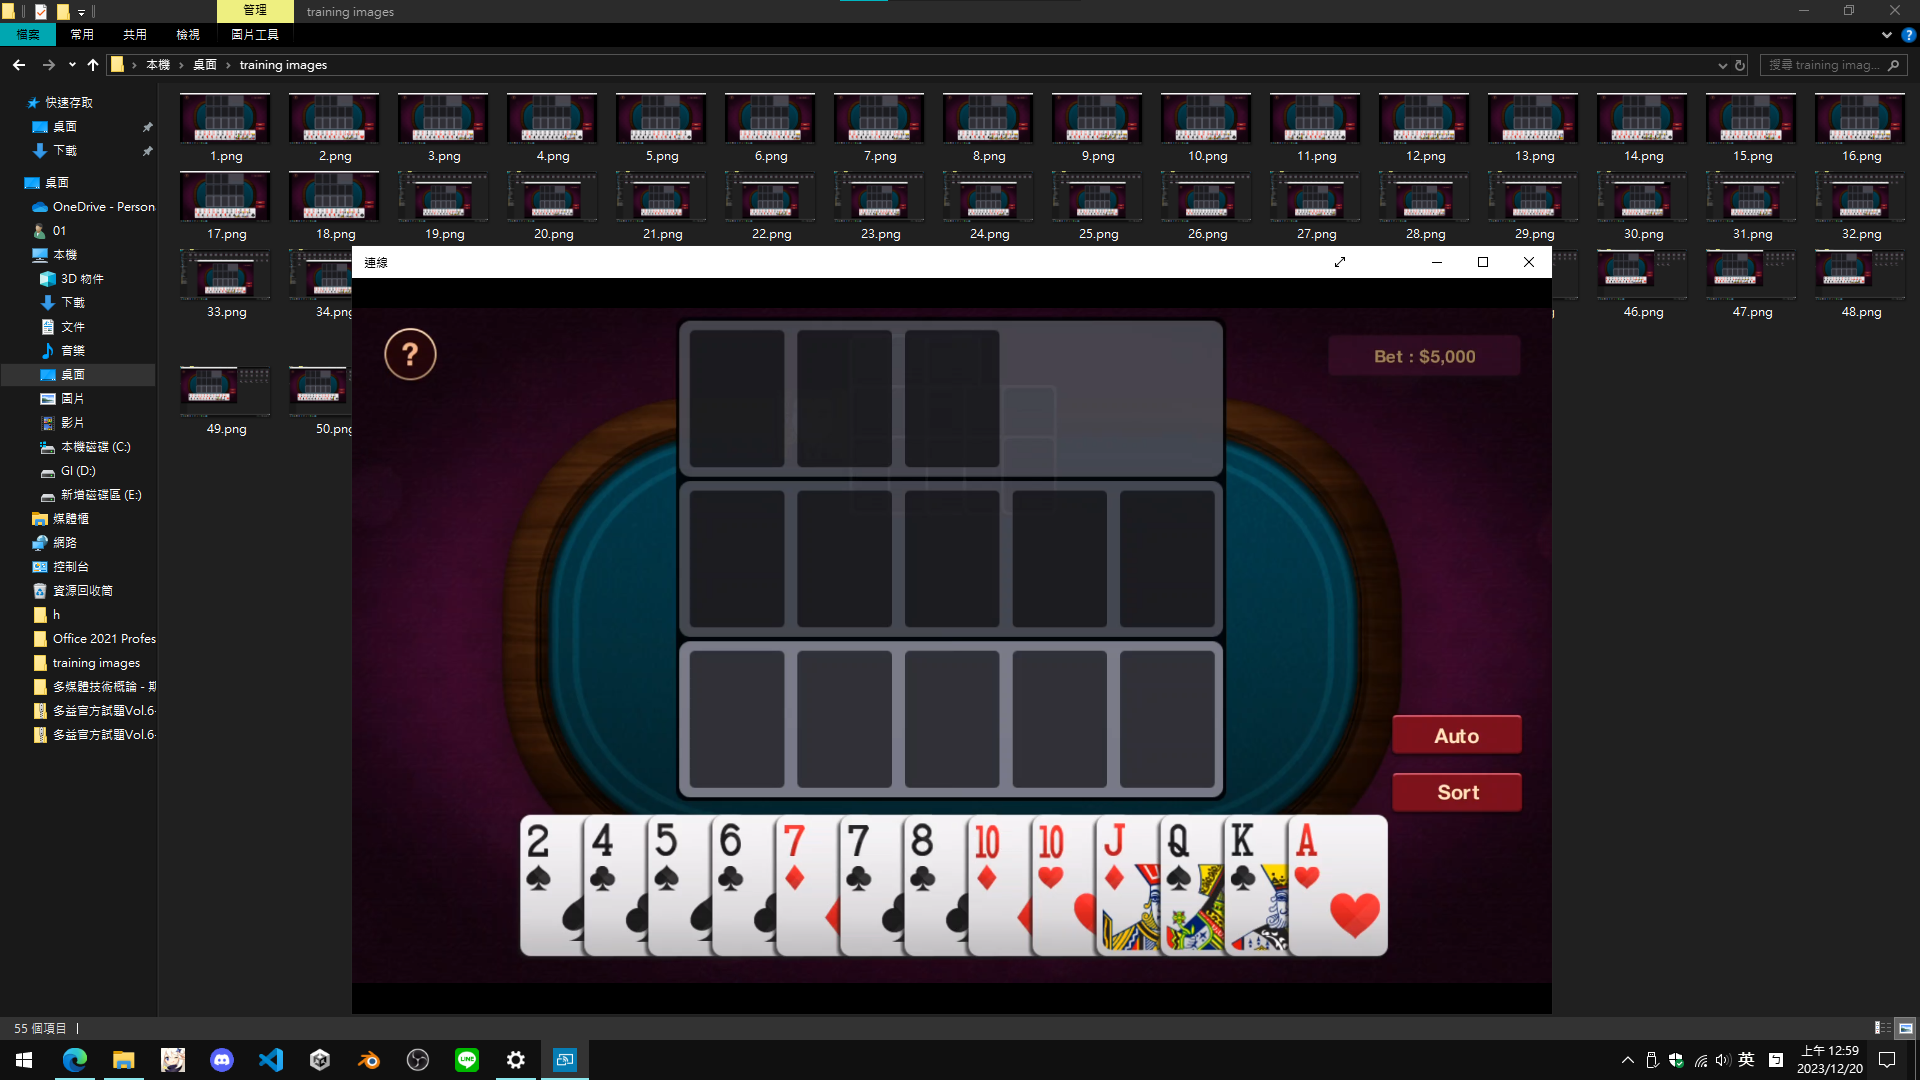10D: (972, 822, 1005, 893)
10H: (1036, 819, 1067, 890)
2S: (524, 819, 554, 895)
4C: (588, 818, 616, 895)
5S: (651, 819, 682, 894)
6C: (716, 820, 744, 893)
7C: (844, 822, 874, 893)
7D: (781, 819, 808, 891)
8C: (907, 820, 939, 894)
AH: (1292, 819, 1323, 891)
JD: (1101, 819, 1129, 893)
KC: (1229, 819, 1257, 894)
QS: (1163, 820, 1193, 893)
